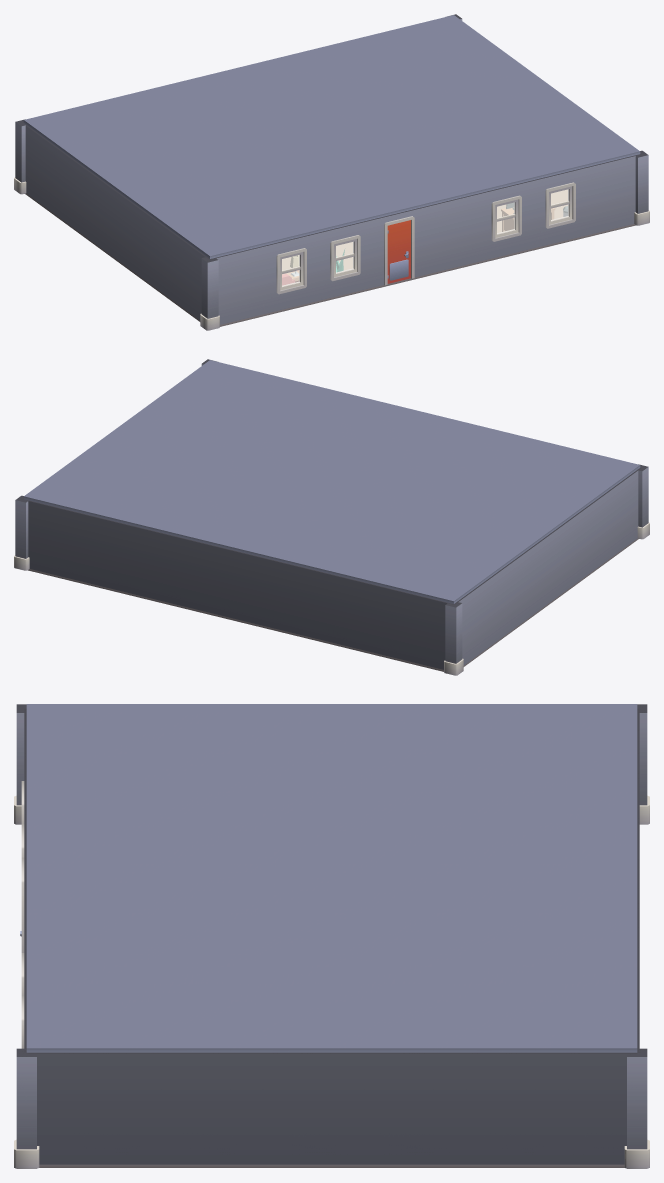
Rendered from room.glb.
The picture shows the model from 3 angles, top to bottom: view 1: azimuth 30°, elevation 25°; view 2: azimuth 150°, elevation 25°; view 3: azimuth 270°, elevation 25°; orthographic projection. The views are drawn at different scales.
Visible parts, largest first — view 1: floor (×2), wall, (%ignore), door; view 2: floor (×2), wall; view 3: floor (×2), wall.
Part boxes in pixels (x1=…): floor (×2): x1=23, y1=15, x2=640, y2=326; wall: x1=14, y1=14, x2=649, y2=330; (%ignore): x1=282, y1=189, x2=568, y2=286; door: x1=387, y1=220, x2=410, y2=283; floor (×2): x1=23, y1=360, x2=640, y2=671; wall: x1=14, y1=359, x2=649, y2=675; floor (×2): x1=26, y1=704, x2=637, y2=1167; wall: x1=14, y1=704, x2=649, y2=1168.
Size of the model in its own units: 16.5 by 2.6 by 12.5.
16 materials, 4 textured.
